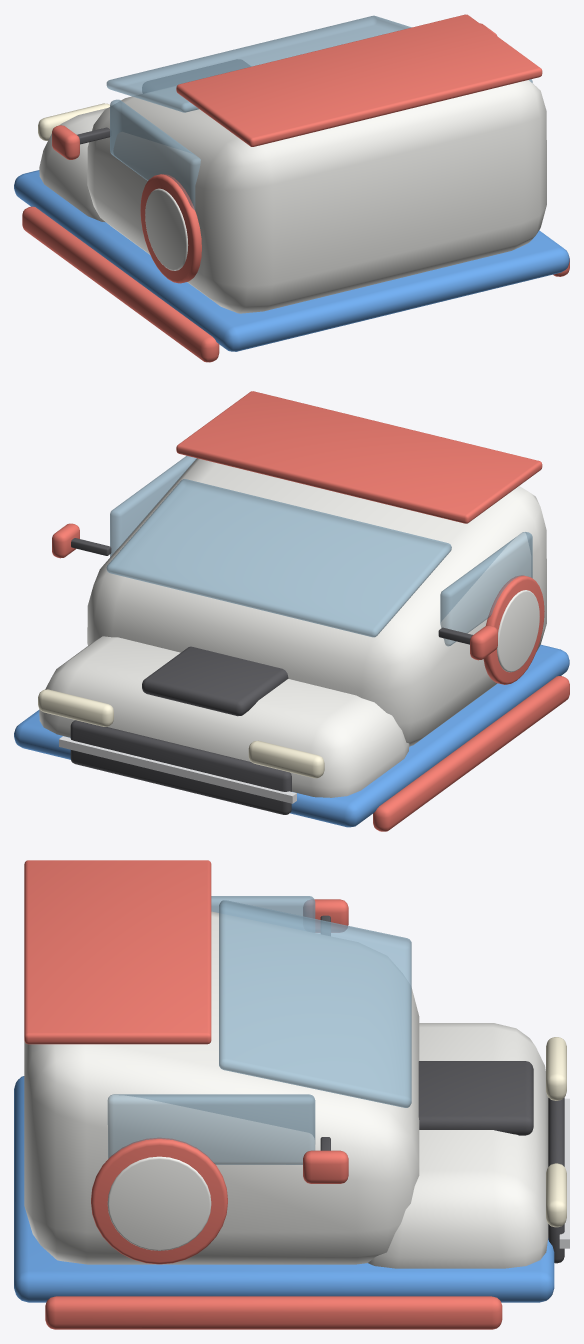
Rendered from Kabina_Sportowa.fbx.
The picture shows the model from 3 angles, top to bottom: view 1: azimuth 30°, elevation 25°; view 2: azimuth 150°, elevation 25°; view 3: azimuth 270°, elevation 25°; orthographic projection. The views are drawn at different scales.
Parts seen in each view (by area): view 1: Kabina_Sportowa; view 2: Kabina_Sportowa; view 3: Kabina_Sportowa.
Boxes of the visible parts, box(x1,y1,x2,y2) form: Kabina_Sportowa: box(14, 14, 569, 362); Kabina_Sportowa: box(14, 391, 569, 831); Kabina_Sportowa: box(14, 860, 569, 1329).
Bounding box in the file's own units: 2.96 × 1.47 × 2.68.
